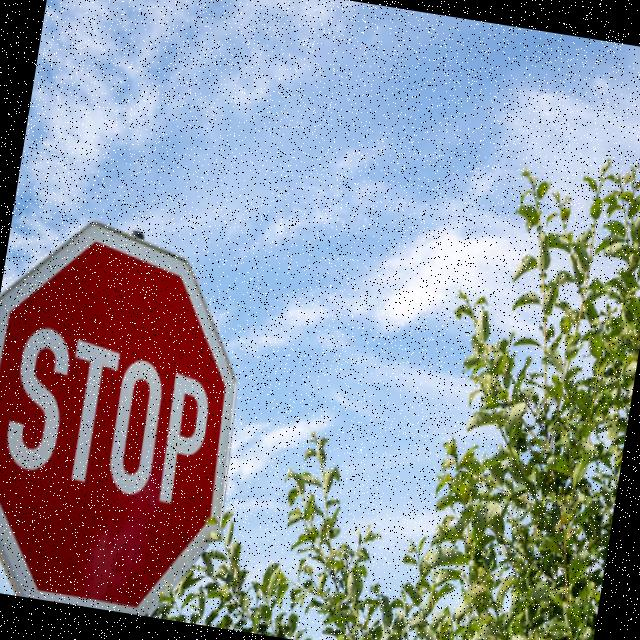stop: (0, 198, 273, 627)
